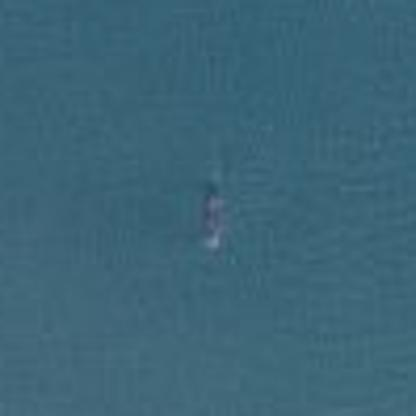ship: (195, 169, 231, 255)
